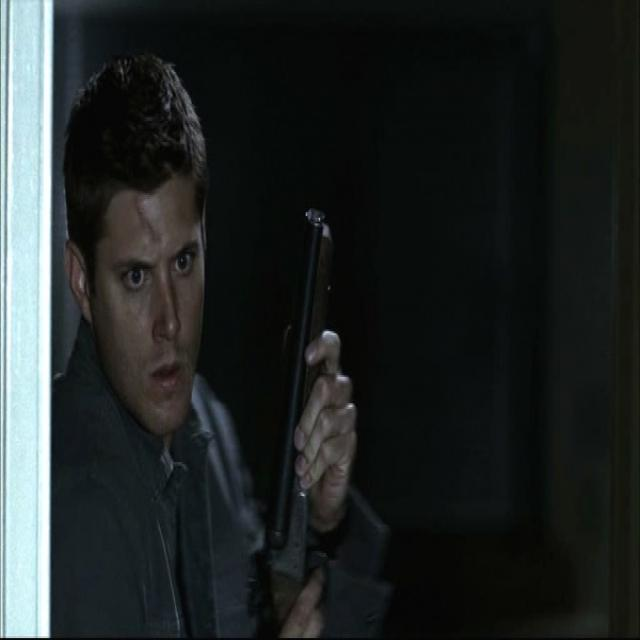rifle: (261, 190, 337, 640)
